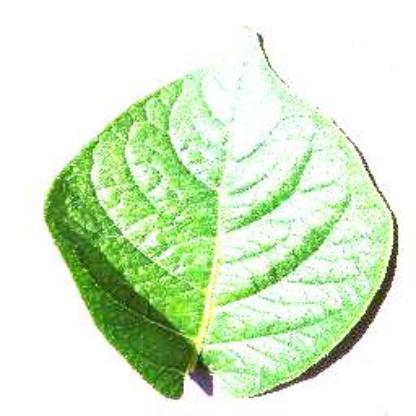Healthy-plant: (36, 23, 402, 404)
